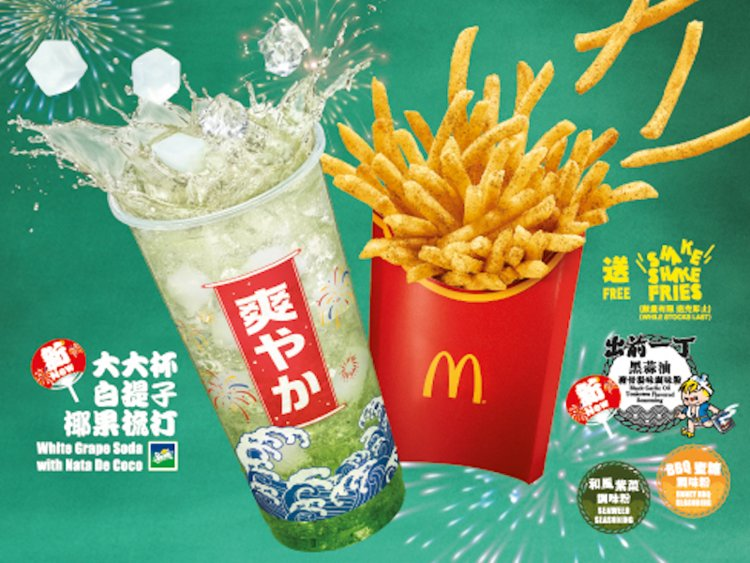mcdonalds: (417, 347, 486, 408)
